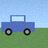vehicle: (1, 15, 34, 35)
